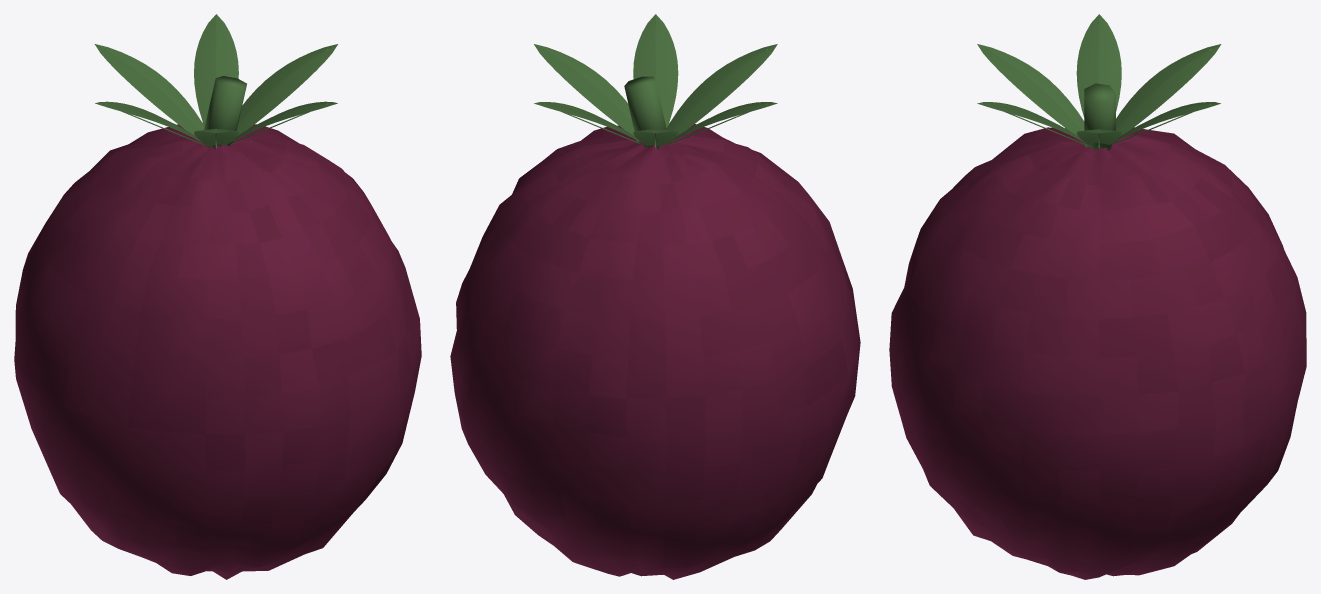
The model's file is Beet.glb.
The picture shows the model from 3 angles, left to right: view 1: azimuth 30°, elevation 25°; view 2: azimuth 150°, elevation 25°; view 3: azimuth 270°, elevation 25°; orthographic projection.
Parts seen in each view (by area): view 1: Beet; view 2: Beet; view 3: Beet.
Boxes of the visible parts, x1,y1,x2,y2 form: Beet: (14,14,421,579); Beet: (450,14,860,579); Beet: (889,14,1306,579).
Size of what is drawn, in the model's own units: 0.0678 by 0.0912 by 0.0703.
